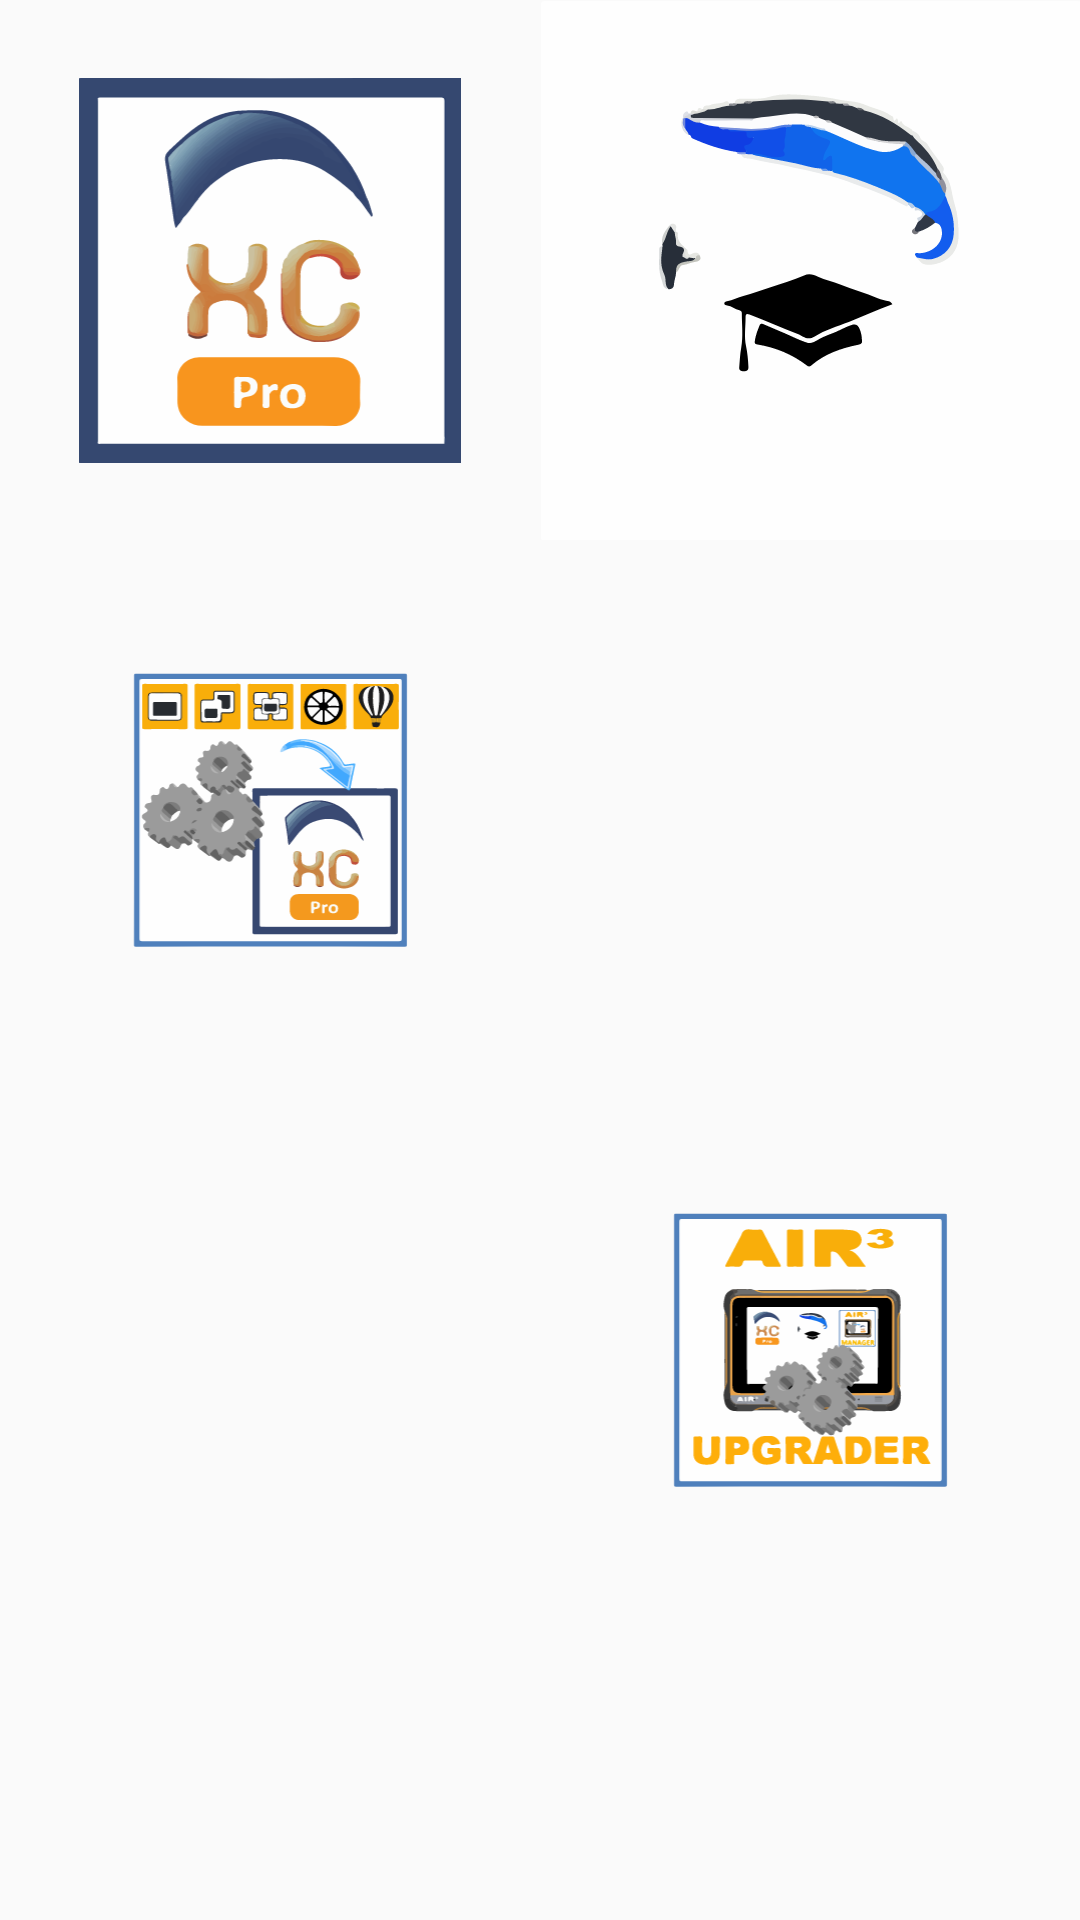

Named icons in this screenshot (1080x1920) and their bounding boxes, (x1, y1, x2, y2):
XC Guide Launch: (659, 99, 954, 372)
